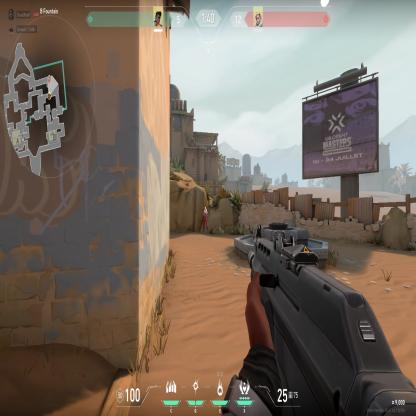enemy: (202, 205, 208, 235)
